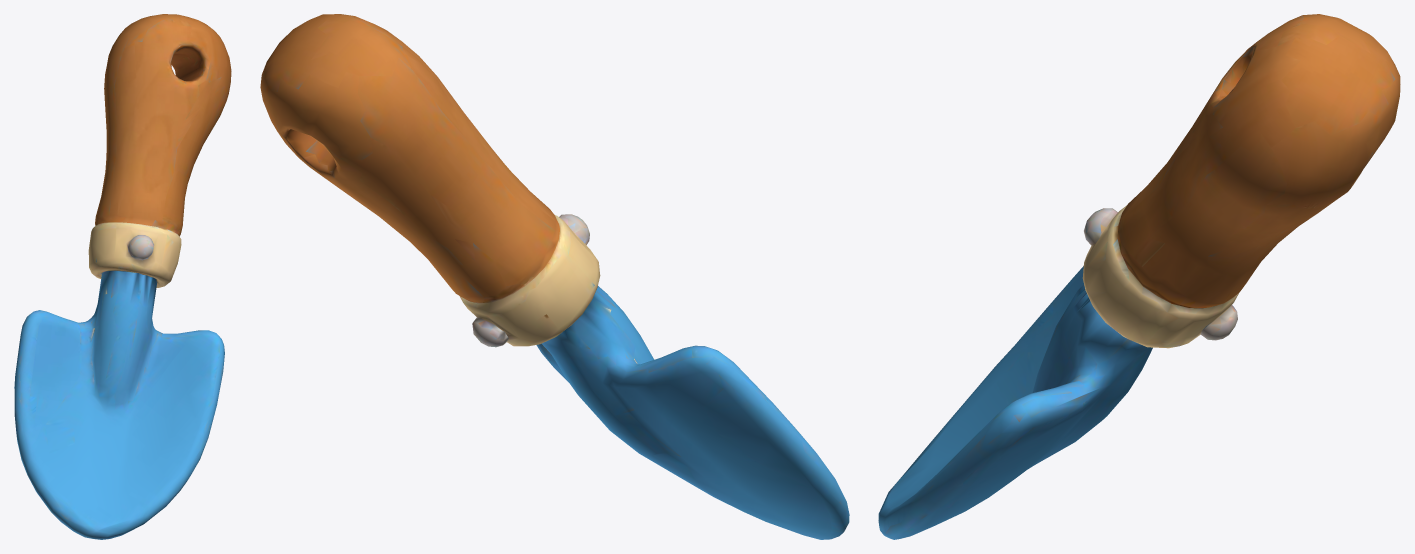
3 views of the same model, side by side, from view 1: azimuth 30°, elevation 25°; view 2: azimuth 150°, elevation 25°; view 3: azimuth 270°, elevation 25° (orthographic). The views are drawn at different scales.
Visible parts, largest first — view 1: shovel; view 2: shovel; view 3: shovel.
Boxes of the visible parts, left/top/right/bottom form: shovel: left=14, top=14, right=231, bottom=539; shovel: left=260, top=14, right=849, bottom=539; shovel: left=878, top=14, right=1400, bottom=539.
Bounding box in the file's own units: 0.6213 × 0.8001 × 0.5826.
1 material, 1 textured.
